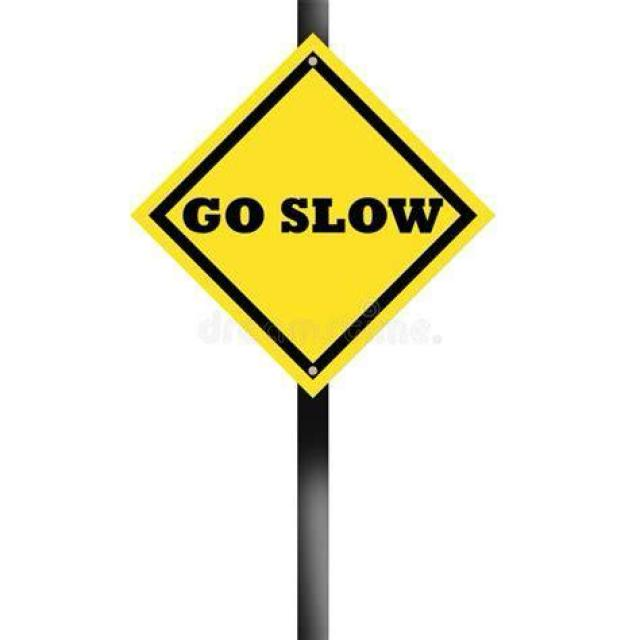go_slow: (140, 37, 478, 392)
